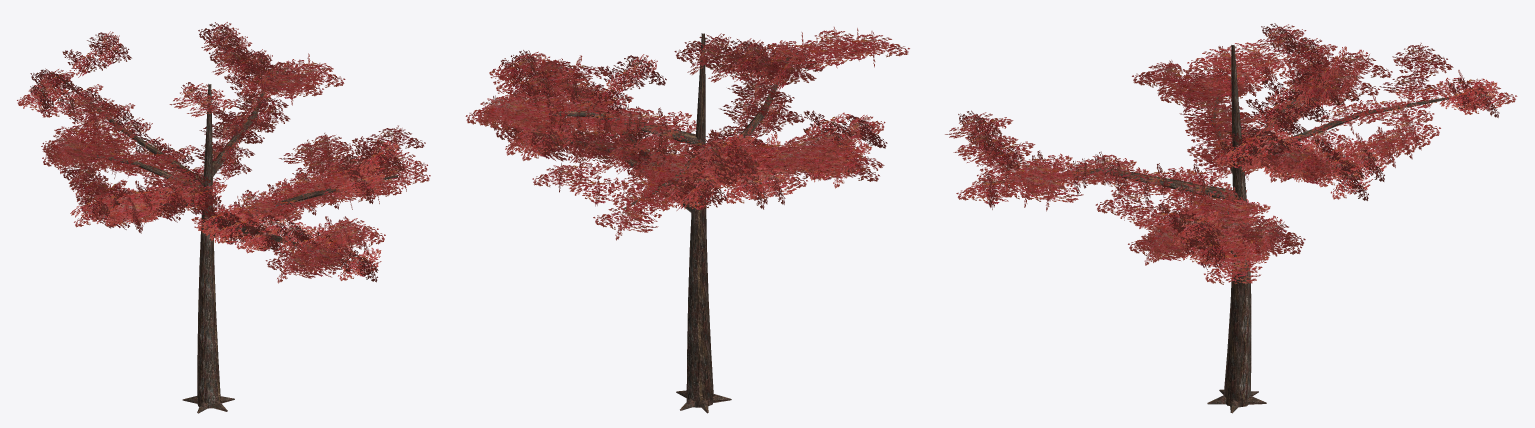
The model's file is tree_3d_05_red_lod1.glb.
3 renders of one model, left to right at view 1: azimuth 30°, elevation 25°; view 2: azimuth 150°, elevation 25°; view 3: azimuth 270°, elevation 25°, orthographic. The views are drawn at different scales.
Visible parts, largest first — view 1: foliage_cards, wood_geometry; view 2: foliage_cards, wood_geometry; view 3: foliage_cards, wood_geometry.
Boxes of the visible parts, box(x1,y1,x2,y2) form: foliage_cards: box(17, 22, 430, 283); wood_geometry: box(57, 70, 397, 413); foliage_cards: box(465, 27, 909, 240); wood_geometry: box(517, 33, 849, 413); foliage_cards: box(945, 23, 1517, 286); wood_geometry: box(992, 45, 1476, 413).
Bounding box in the file's own units: 9.84 × 8.88 × 12.95.
Materials: 2 (2 with a texture image).
